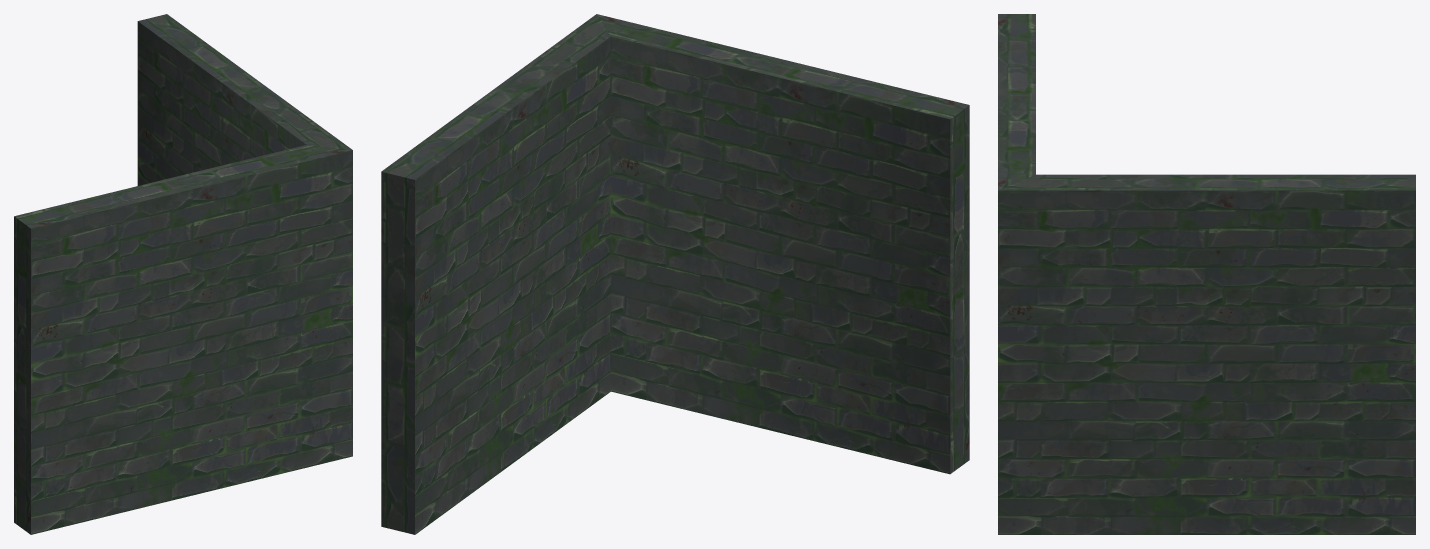
The model's file is outerCornerBig.fbx.
3 views of the same model, side by side, from view 1: azimuth 30°, elevation 25°; view 2: azimuth 150°, elevation 25°; view 3: azimuth 270°, elevation 25° (orthographic). The views are drawn at different scales.
Visible parts, largest first — view 1: outerCornerBig; view 2: outerCornerBig; view 3: outerCornerBig.
Boxes of the visible parts, bbox=[...] form: outerCornerBig: bbox=[14, 14, 352, 534]; outerCornerBig: bbox=[381, 14, 969, 534]; outerCornerBig: bbox=[998, 14, 1415, 534].
Bounding box in the file's own units: 440 × 400 × 440.
Materials: 1 (1 with a texture image).
